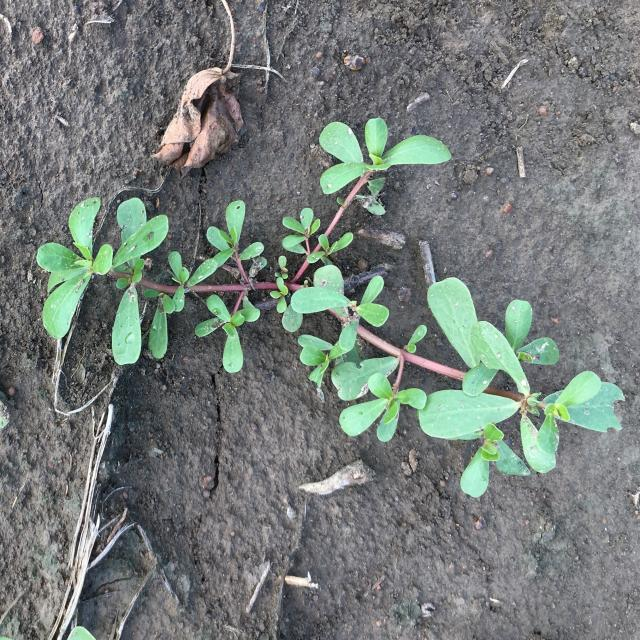Purslane: (36, 118, 625, 497)
